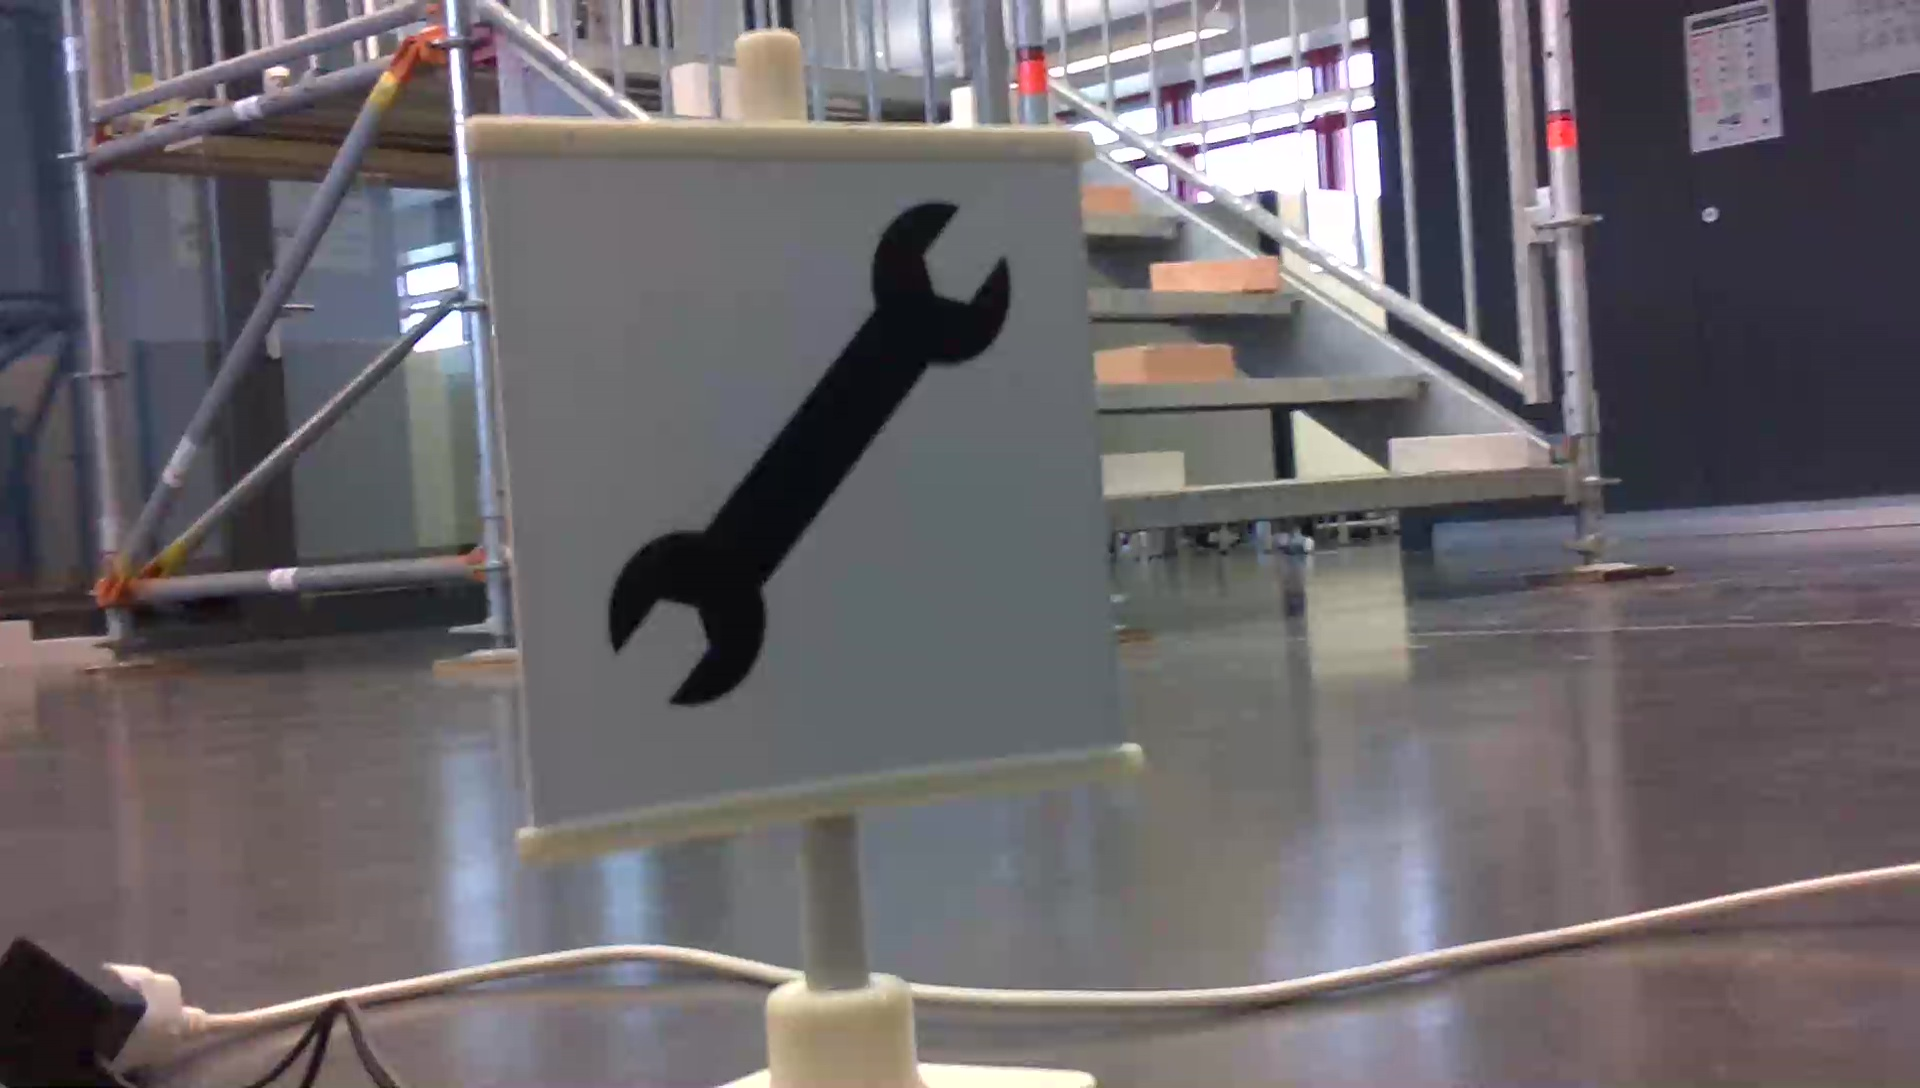brick: (1092, 342, 1228, 382), (1393, 437, 1524, 471), (1150, 258, 1275, 290), (1102, 448, 1180, 493), (1080, 187, 1133, 208)
edge: (1106, 469, 1568, 531), (1102, 377, 1432, 408), (1088, 290, 1303, 315), (1083, 210, 1185, 235)
wrench: (597, 186, 1021, 715)
